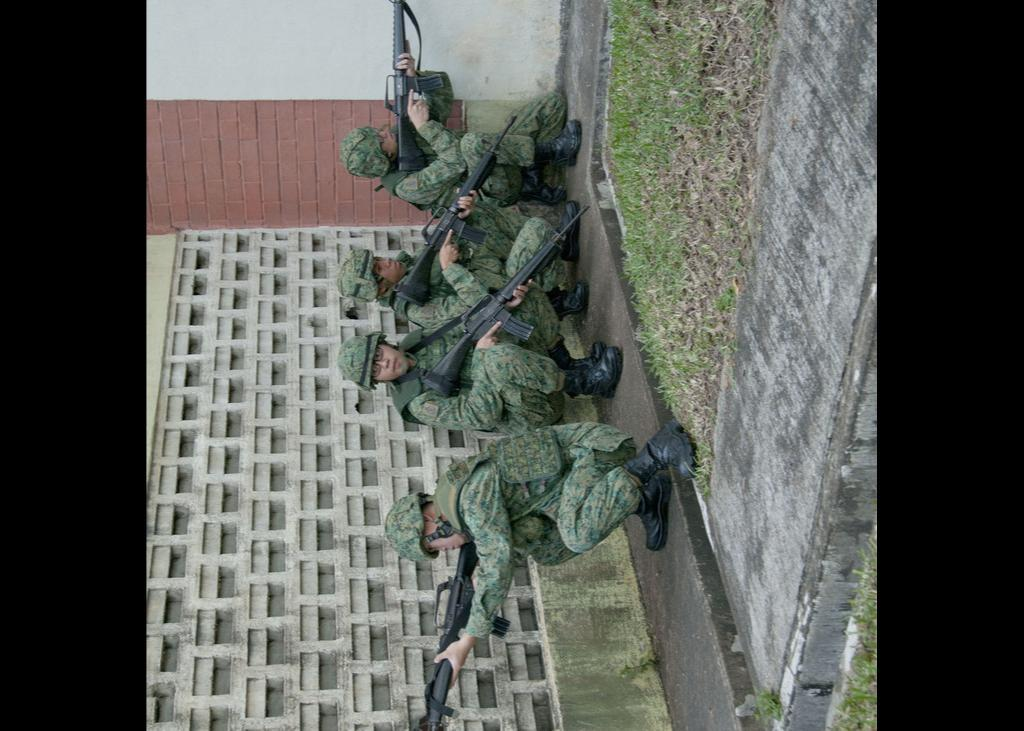gun: (424, 202, 588, 393), (404, 112, 516, 296), (387, 0, 447, 167), (412, 601, 472, 731)
